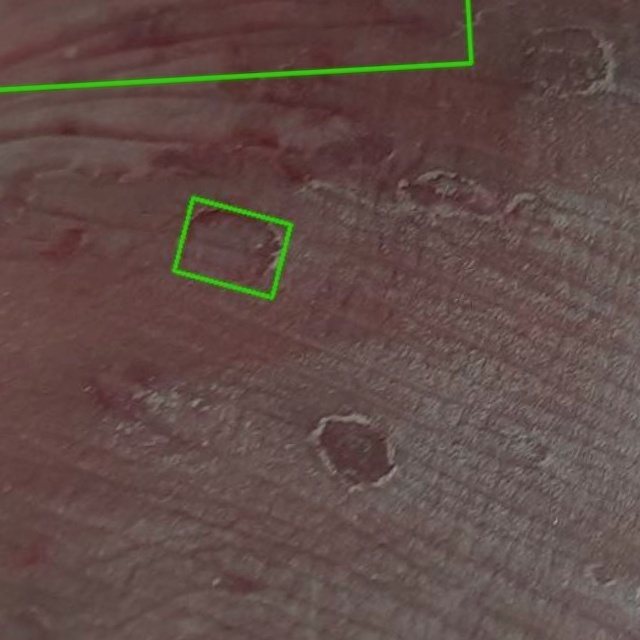Contact Dermatitis: (174, 197, 291, 296)
